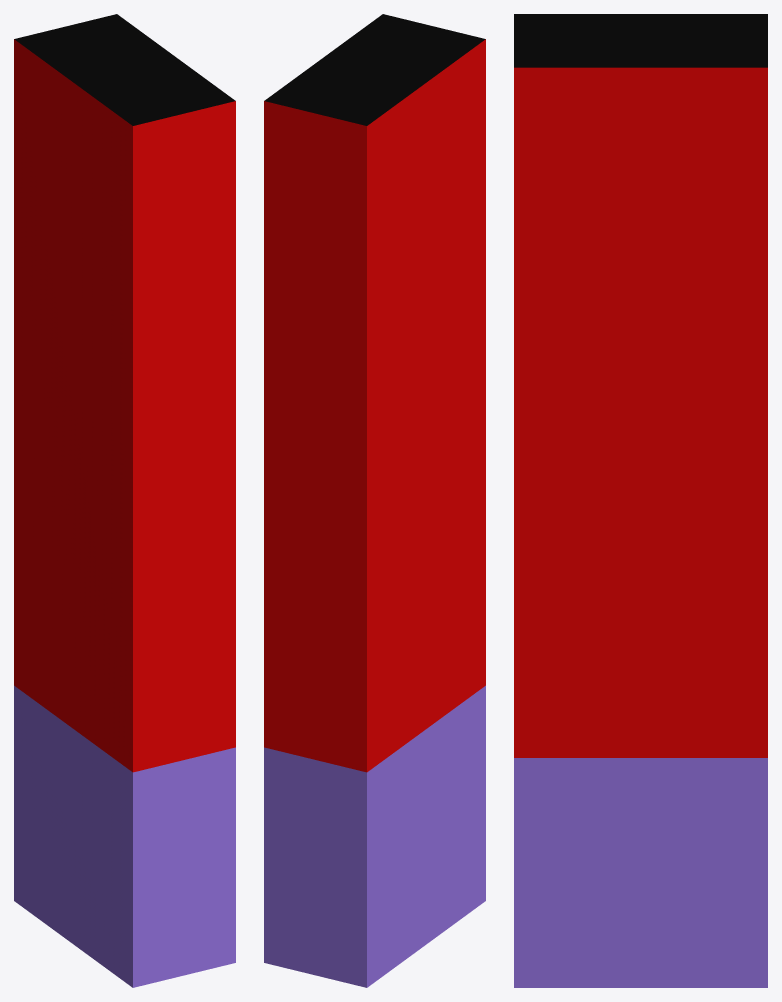
Rendered from Wall4x1.fbx.
3 views of the same model, side by side, from view 1: azimuth 30°, elevation 25°; view 2: azimuth 150°, elevation 25°; view 3: azimuth 270°, elevation 25° (orthographic). The views are drawn at different scales.
Parts seen in each view (by area): view 1: Wall_4x1; view 2: Wall_4x1; view 3: Wall_4x1.
Part boxes in pixels (box(x1,y1,x2,y2)): Wall_4x1: box(14, 14, 235, 987); Wall_4x1: box(264, 14, 485, 987); Wall_4x1: box(514, 14, 767, 987).
Size of the model in its own units: 50 by 400 by 100.
